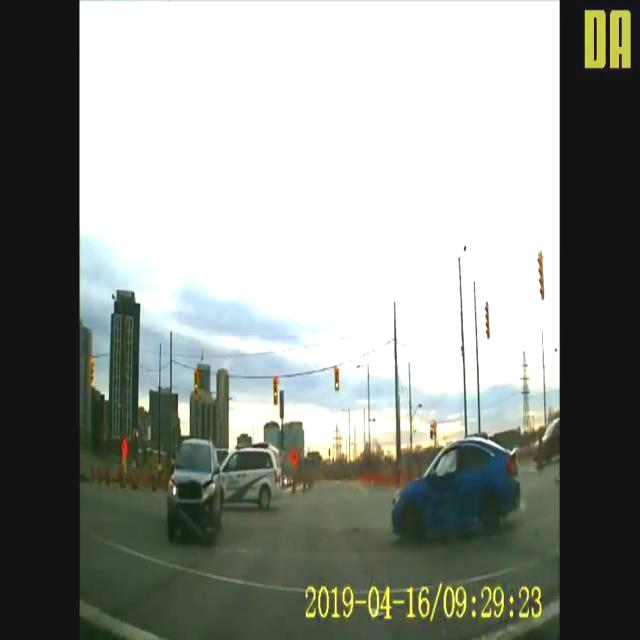non-accident: (165, 438, 282, 548)
